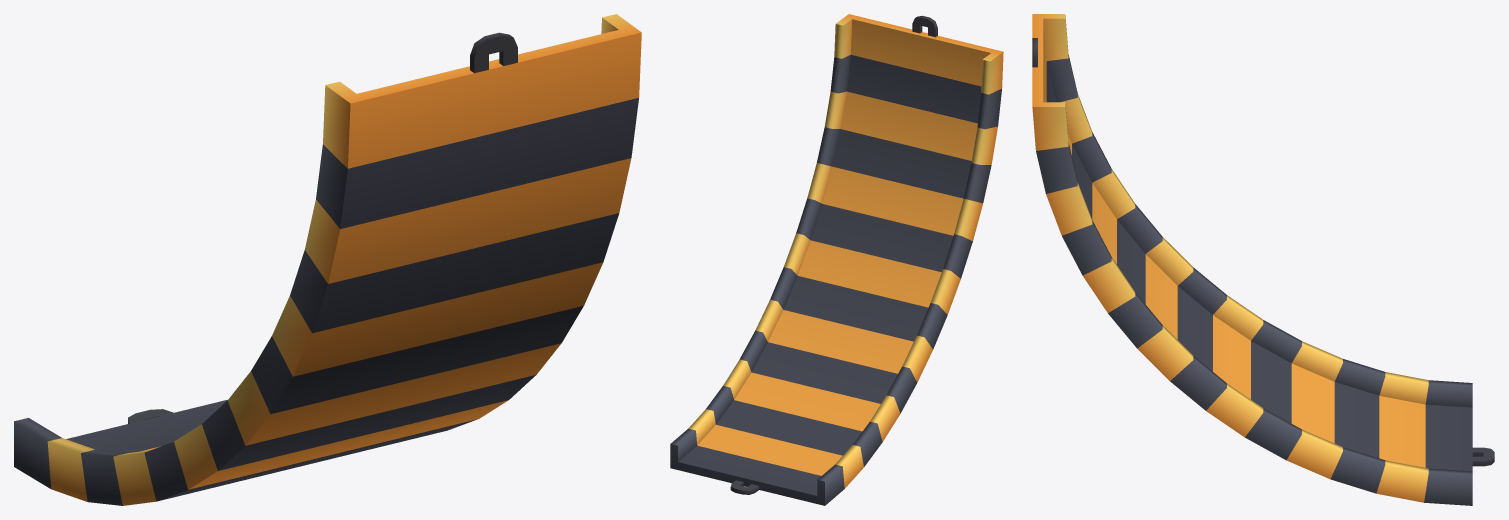
The model's file is track-striped-wide-straight-bend-large.fbx.
The picture shows the model from 3 angles, left to right: view 1: azimuth 30°, elevation 25°; view 2: azimuth 150°, elevation 25°; view 3: azimuth 270°, elevation 25°; orthographic projection. The views are drawn at different scales.
Visible parts, largest first — view 1: track-striped-wide-straight-bend-large; view 2: track-striped-wide-straight-bend-large; view 3: track-striped-wide-straight-bend-large.
Part boxes in pixels (<box>): track-striped-wide-straight-bend-large: <box>14,14,641,505</box>; track-striped-wide-straight-bend-large: <box>670,14,1003,505</box>; track-striped-wide-straight-bend-large: <box>1032,14,1494,505</box>.
Size of the model in its own units: 200 by 420 by 420.
